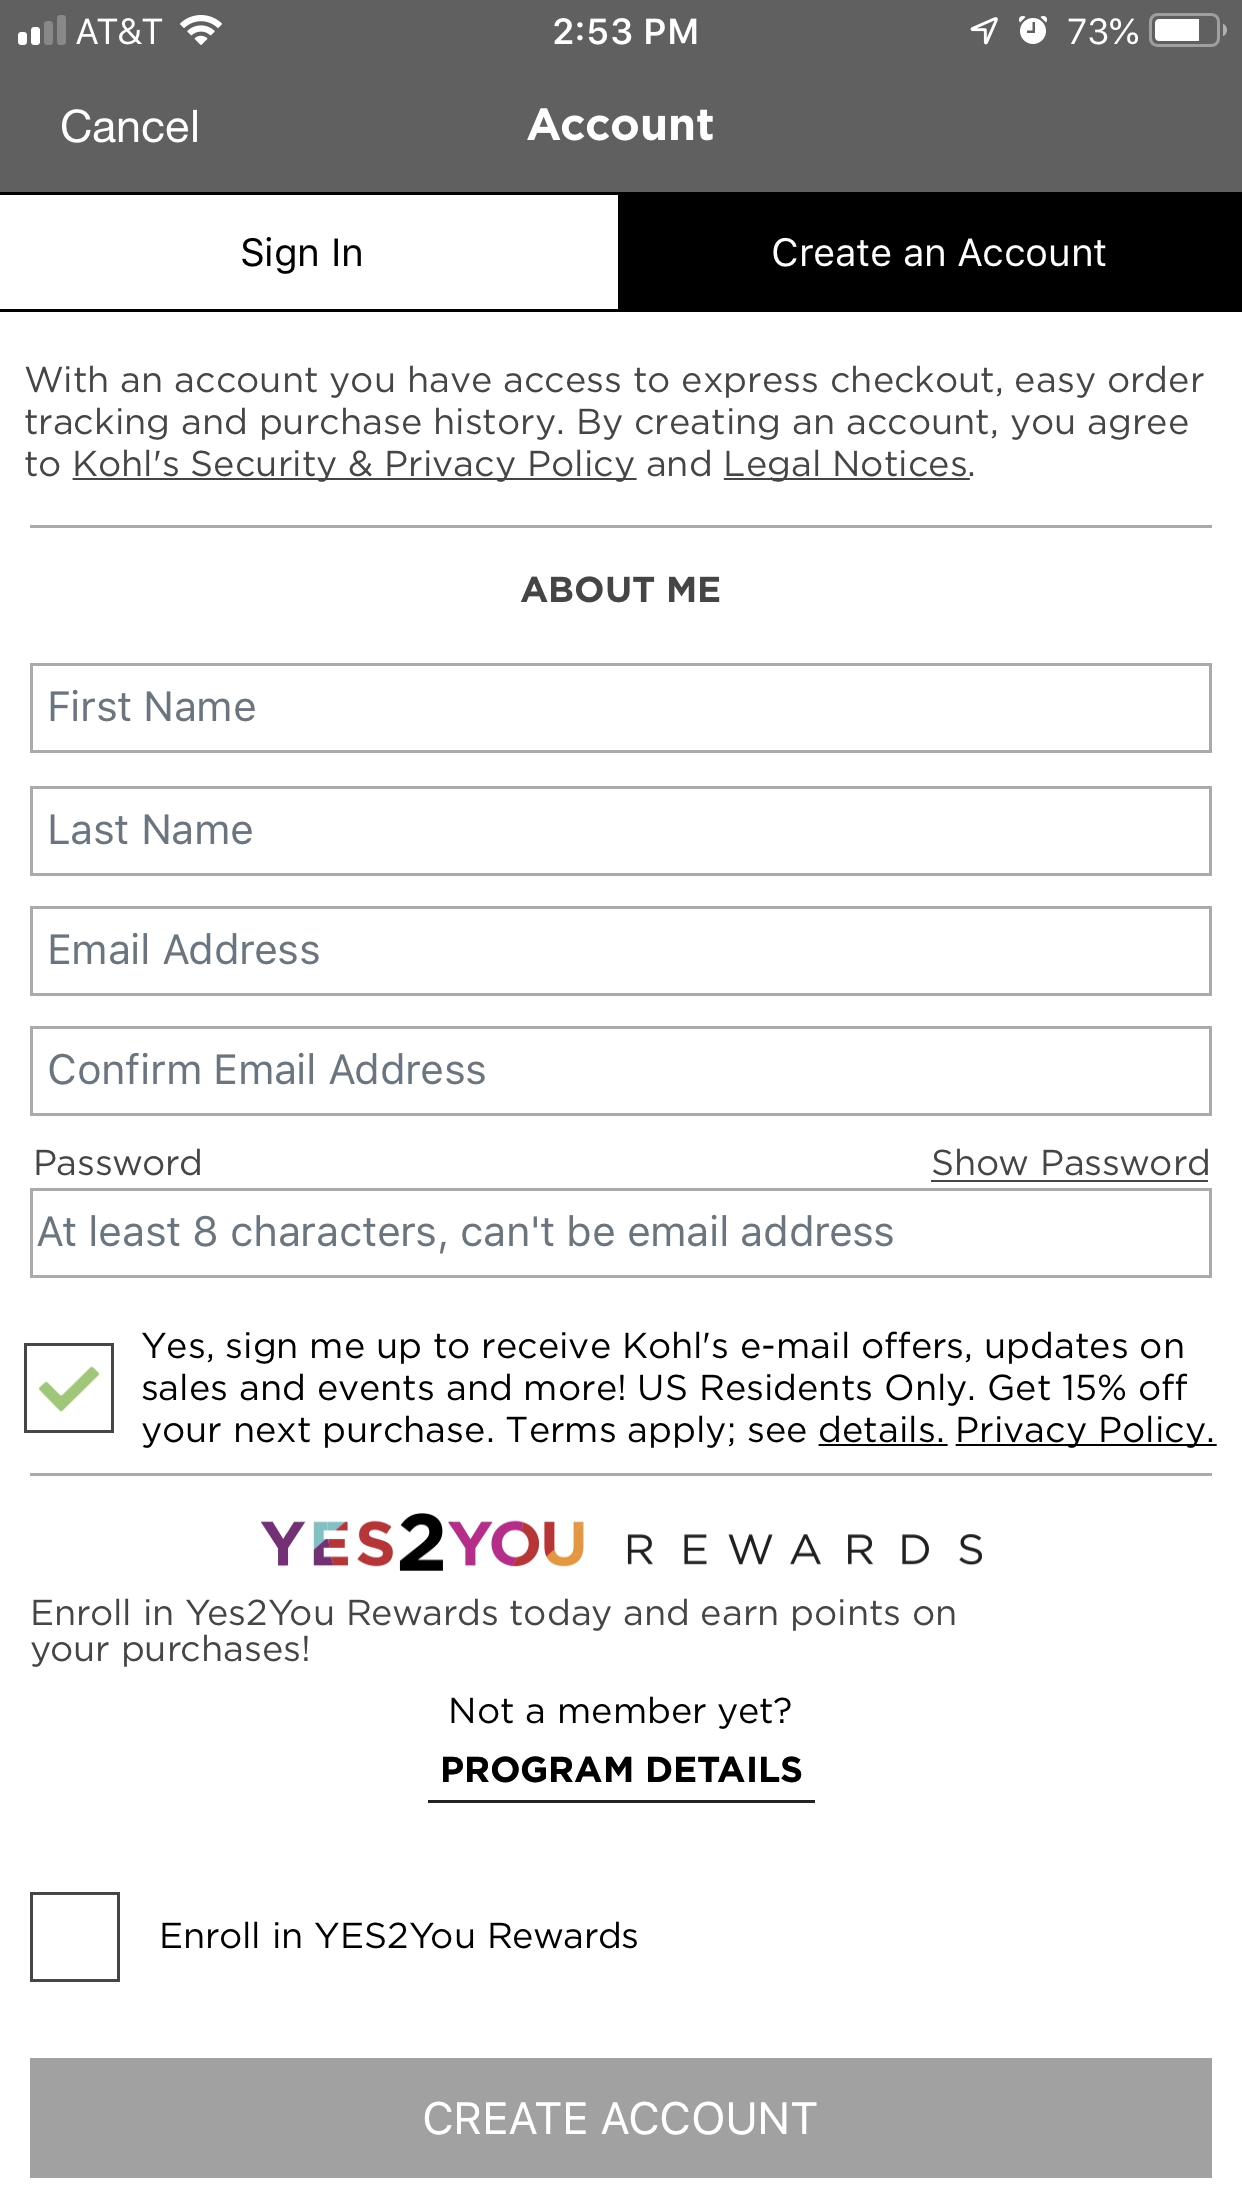CheckedTextView: (24, 1328, 1219, 1450), (30, 1891, 638, 1984)
EditText: (30, 663, 1212, 754), (30, 786, 1212, 877), (30, 1027, 1212, 1118), (30, 1187, 1212, 1278), (30, 907, 1212, 996)
Image: (262, 1513, 585, 1573)
Text: (24, 365, 1206, 482), (143, 1330, 1218, 1450), (30, 1597, 955, 1670), (38, 1215, 895, 1256), (428, 1755, 816, 1805), (50, 1052, 487, 1086), (162, 1921, 638, 1950), (443, 1697, 792, 1730), (628, 1535, 983, 1567), (931, 1148, 1209, 1183), (52, 933, 321, 966), (50, 690, 256, 723), (526, 108, 714, 143), (52, 814, 253, 846), (522, 576, 720, 604), (62, 109, 199, 146), (36, 1148, 202, 1177)
TextButton: (30, 2058, 1212, 2179), (619, 193, 1242, 312), (2, 193, 619, 312)
UpperTaskBar: (2, 2, 1242, 49)
